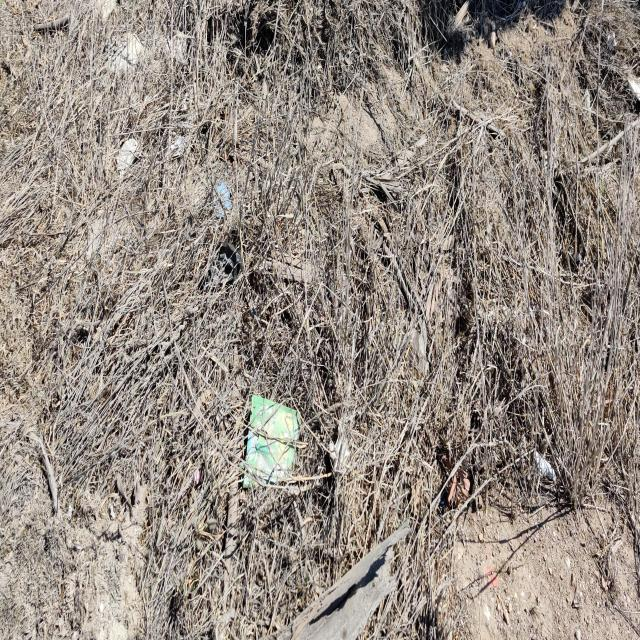litter: (248, 394, 303, 498), (215, 184, 236, 221)
